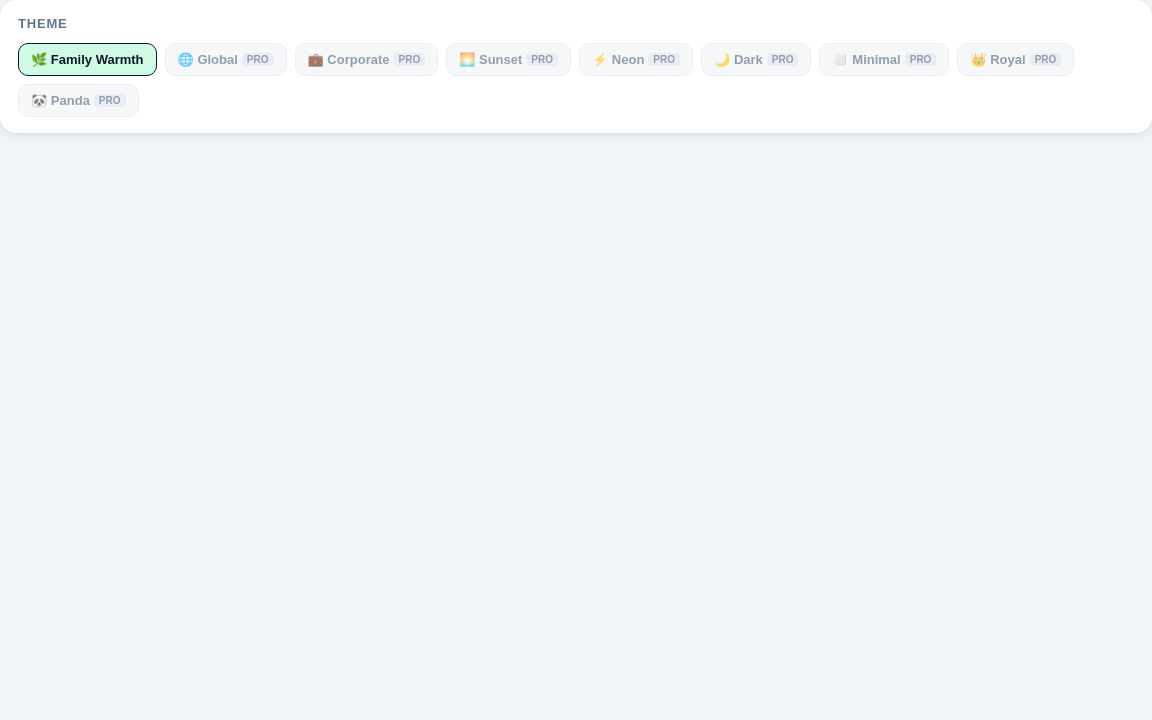
Scenario: ThemeSection › free hub, non-owner: the skin modal explains the cap but offers no pay CTA
The width and height of the screenshot is (1152, 720).
Click the button with test id "theme-corporate_professional" at (366, 60), box 294,43 -> 438,76
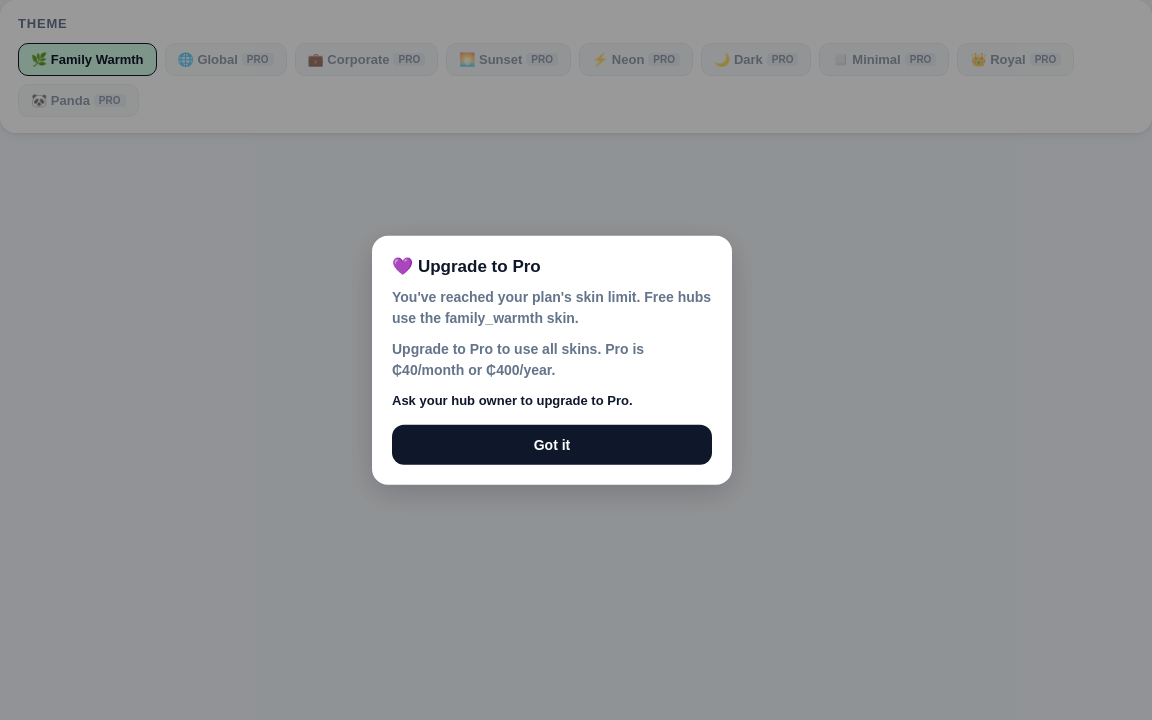
Expected: the text "skin limit" is shown, 392,289 -> 711,326
Expected: the text "Ask your hub owner to upgrade to Pro." is shown, 392,393 -> 632,408
